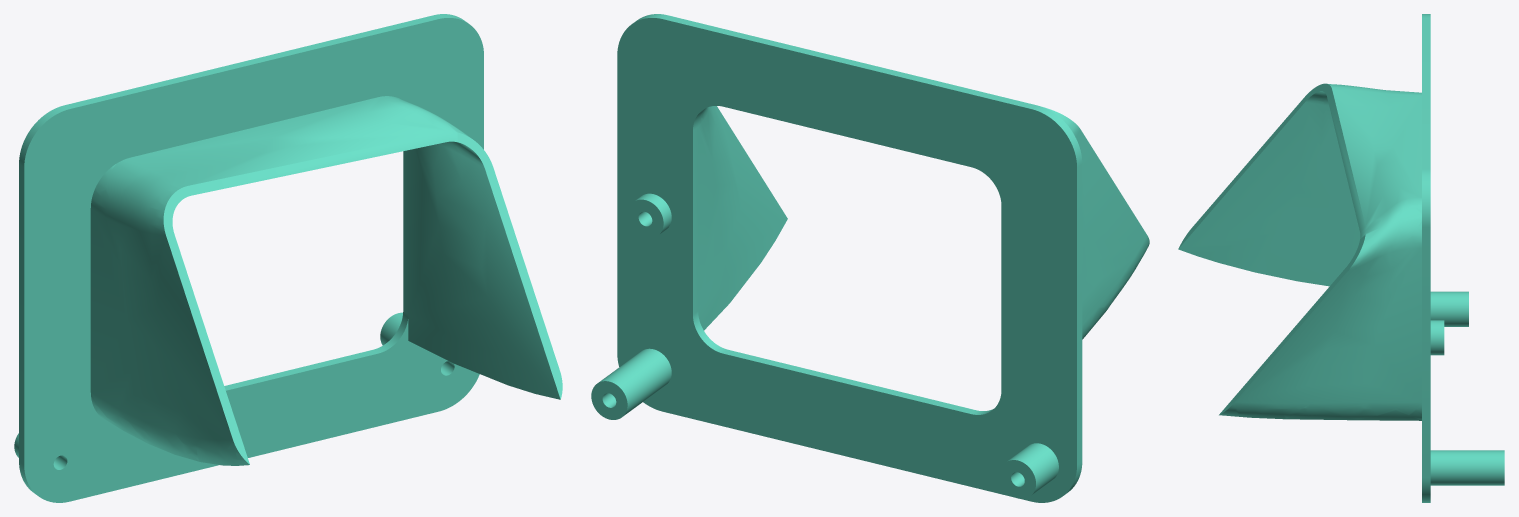
The picture shows the model from 3 angles, left to right: view 1: azimuth 30°, elevation 25°; view 2: azimuth 150°, elevation 25°; view 3: azimuth 270°, elevation 25°; orthographic projection. The views are drawn at different scales.
Visible parts, largest first — view 1: Option_B_concept; view 2: Option_B_concept; view 3: Option_B_concept.
Boxes of the visible parts, box(x1,y1,x2,y2) form: Option_B_concept: box(14, 14, 562, 502); Option_B_concept: box(591, 14, 1149, 502); Option_B_concept: box(1178, 14, 1504, 502).
Bounding box in the file's own units: 0.152 × 0.124 × 0.1114.
